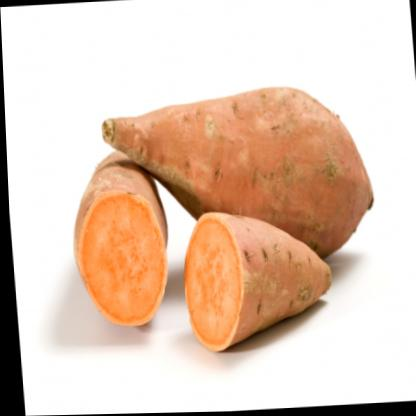sweetpotato: (98, 73, 375, 280), (173, 200, 338, 360), (63, 146, 171, 349)
